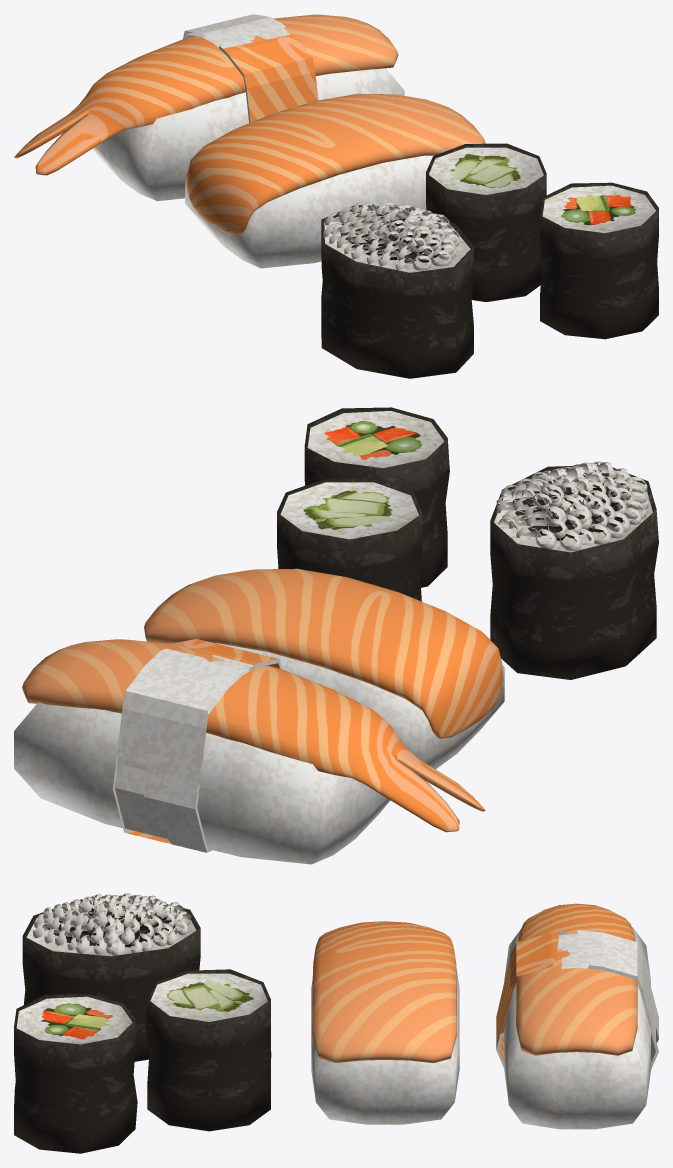
The model's file is sushis.fbx.
The picture shows the model from 3 angles, top to bottom: view 1: azimuth 30°, elevation 25°; view 2: azimuth 150°, elevation 25°; view 3: azimuth 270°, elevation 25°; orthographic projection. The views are drawn at different scales.
Parts seen in each view (by area): view 1: Box002, Cylinder003, Box003, Cylinder002, Cylinder001, Box001, Box004, Box005; view 2: Box002, Box004, Box003, Cylinder003, Box005, Cylinder001, Cylinder002, Box001; view 3: Box002, Cylinder001, Cylinder002, Box003, Box004, Cylinder003, Box001, Box005.
Boxes of the visible parts, x1=… form: Box002: x1=187, y1=93, x2=485, y2=235; Cylinder003: x1=321, y1=205, x2=473, y2=378; Box003: x1=14, y1=14, x2=398, y2=175; Cylinder002: x1=540, y1=182, x2=658, y2=339; Cylinder001: x1=426, y1=143, x2=546, y2=302; Box001: x1=185, y1=155, x2=433, y2=268; Box004: x1=92, y1=68, x2=404, y2=201; Box005: x1=183, y1=14, x2=318, y2=122; Box002: x1=144, y1=568, x2=502, y2=738; Box004: x1=14, y1=702, x2=390, y2=864; Box003: x1=22, y1=639, x2=485, y2=832; Cylinder003: x1=490, y1=466, x2=658, y2=679; Box005: x1=113, y1=639, x2=281, y2=852; Cylinder001: x1=277, y1=477, x2=422, y2=601; Cylinder002: x1=304, y1=407, x2=449, y2=587; Box001: x1=167, y1=643, x2=504, y2=769; Box002: x1=312, y1=921, x2=456, y2=1063; Cylinder001: x1=145, y1=969, x2=271, y2=1131; Cylinder002: x1=14, y1=993, x2=137, y2=1153; Box003: x1=516, y1=903, x2=637, y2=1055; Box004: x1=504, y1=927, x2=650, y2=1129; Cylinder003: x1=22, y1=899, x2=200, y2=1061; Box001: x1=311, y1=968, x2=459, y2=1124; Box005: x1=496, y1=930, x2=658, y2=1069.
Size of the model in its own units: 26.47 by 9.24 by 38.12.
5 materials, 5 textured.
